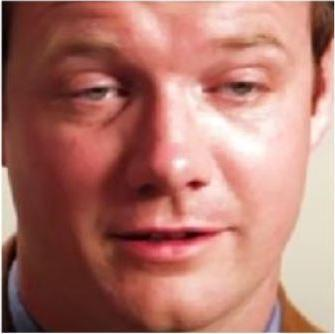Drunk: (26, 4, 301, 328)
